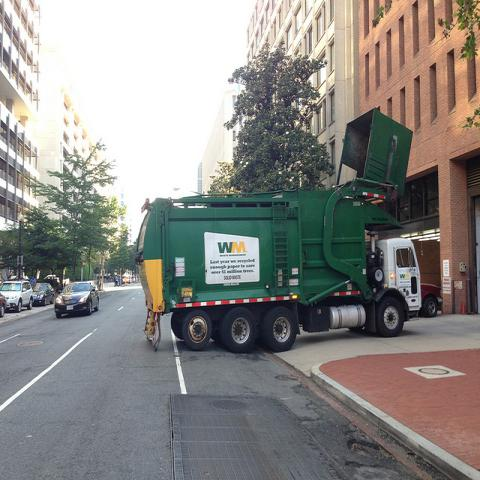car: (55, 280, 100, 318), (0, 281, 34, 311), (421, 282, 445, 318), (30, 282, 55, 305), (0, 292, 8, 316)
truck: (128, 107, 423, 354)
